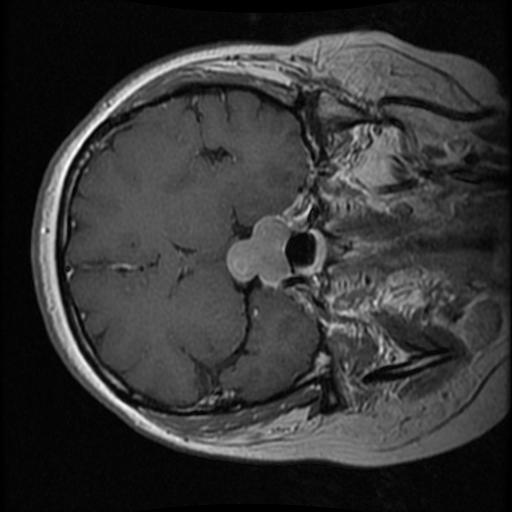pituitary tumour: (226, 216, 292, 284)
